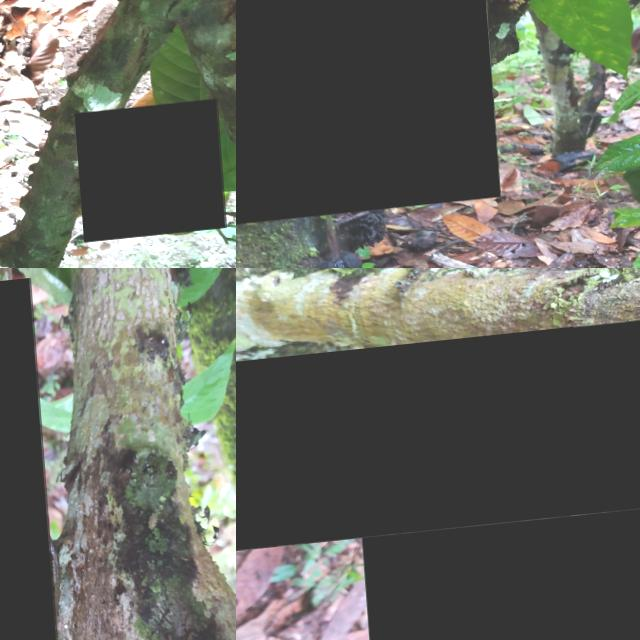Fitoftora: (236, 0, 492, 239), (69, 107, 218, 247)
Monilia: (236, 322, 640, 554), (0, 286, 59, 640)
Sana: (353, 462, 640, 640)
